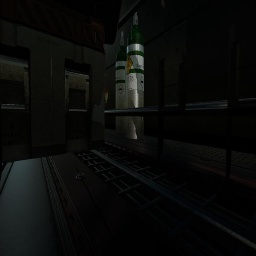0: (126, 12, 144, 140), (115, 30, 127, 135)
NitrogenTank ,: (104, 49, 106, 129)
